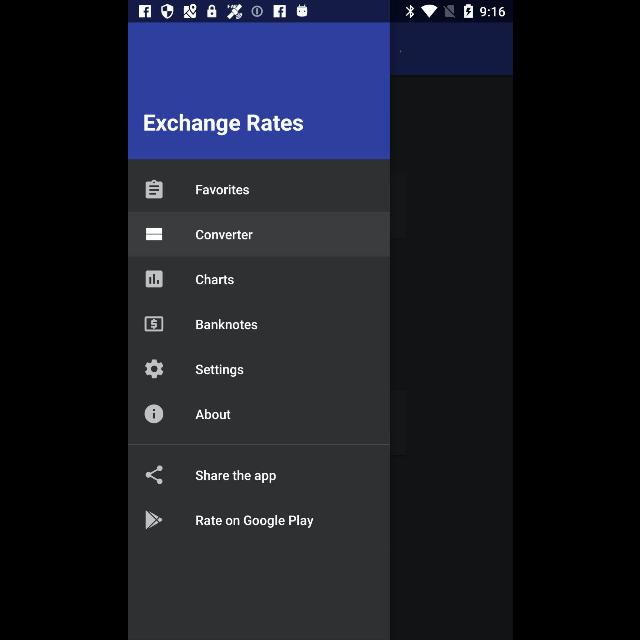icon: (144, 359, 164, 379), (144, 510, 162, 530), (144, 404, 162, 424), (144, 466, 162, 484), (144, 270, 162, 288), (145, 180, 163, 198), (144, 316, 162, 332), (144, 228, 162, 240)
panel: (128, 24, 388, 640)
text: (143, 114, 303, 136), (195, 515, 313, 529), (195, 470, 275, 484), (195, 318, 257, 329), (195, 364, 243, 378), (195, 184, 249, 196), (194, 230, 252, 240), (194, 274, 233, 286), (195, 408, 231, 419)
uppertaskbar: (128, 1, 512, 23)
